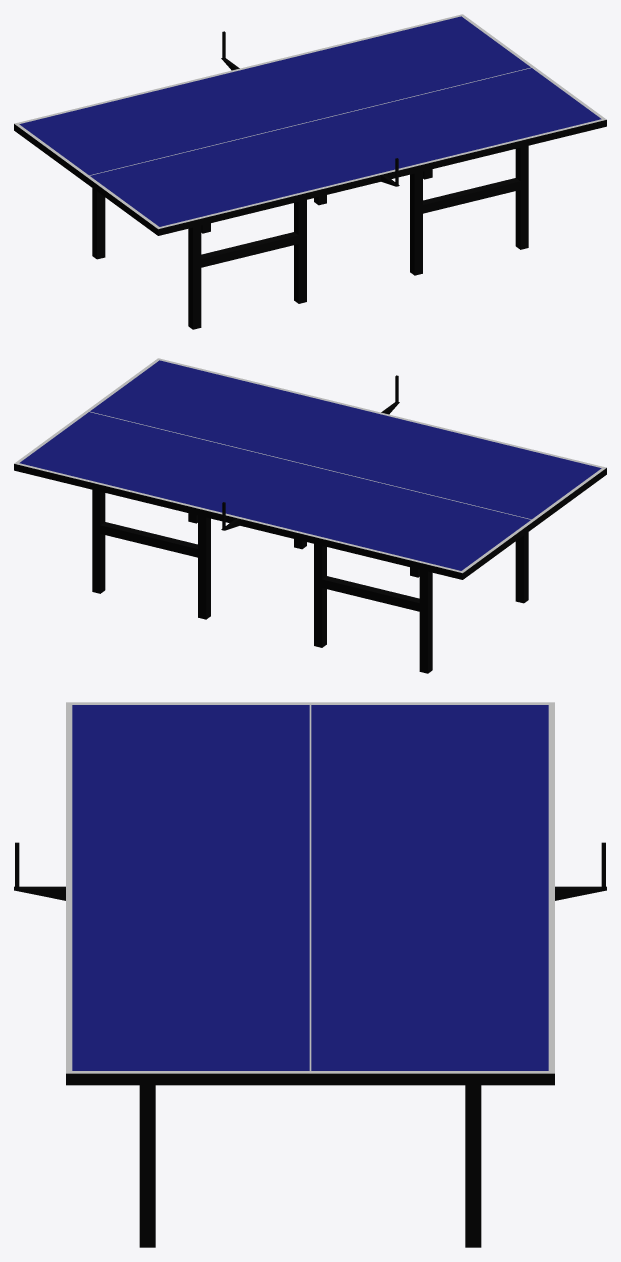
File: tabletennis.obj
3 renders of one model, top to bottom at view 1: azimuth 30°, elevation 25°; view 2: azimuth 150°, elevation 25°; view 3: azimuth 270°, elevation 25°, orthographic. The views are drawn at different scales.
Parts seen in each view (by area): view 1: Table_surface, Table_legs, Net_posts; view 2: Table_surface, Table_legs, Net_posts; view 3: Table_surface, Table_legs, Net_posts.
Boxes of the visible parts, x1,y1,x2,y2 form: Table_surface: (14, 14, 606, 235); Table_legs: (92, 146, 528, 329); Net_posts: (221, 31, 399, 186); Table_surface: (14, 358, 606, 579); Table_legs: (92, 490, 528, 673); Net_posts: (221, 375, 399, 530); Table_surface: (66, 702, 554, 1085); Table_legs: (139, 1085, 481, 1247); Net_posts: (14, 842, 606, 900).
Bounding box in the file's own units: 2.74 × 0.9132 × 1.85.
